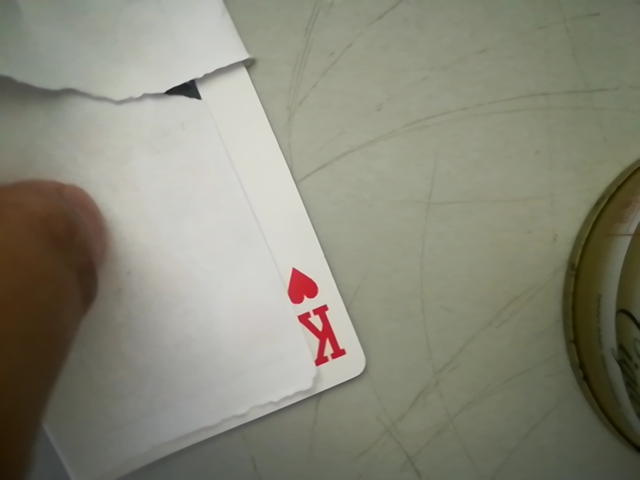hx k: (279, 253, 353, 381)
